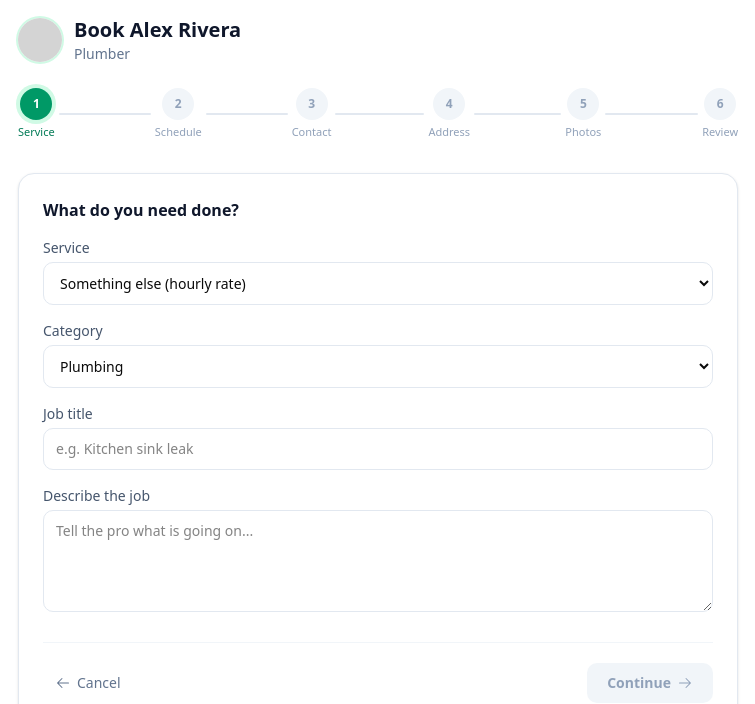
BookingWizardPage › disables slots the pro is already booked for and blocks continuing
Type "Leak" into the field with placeholder "e.g. Kitchen sink leak" at (378, 448), box [43,428,713,470]
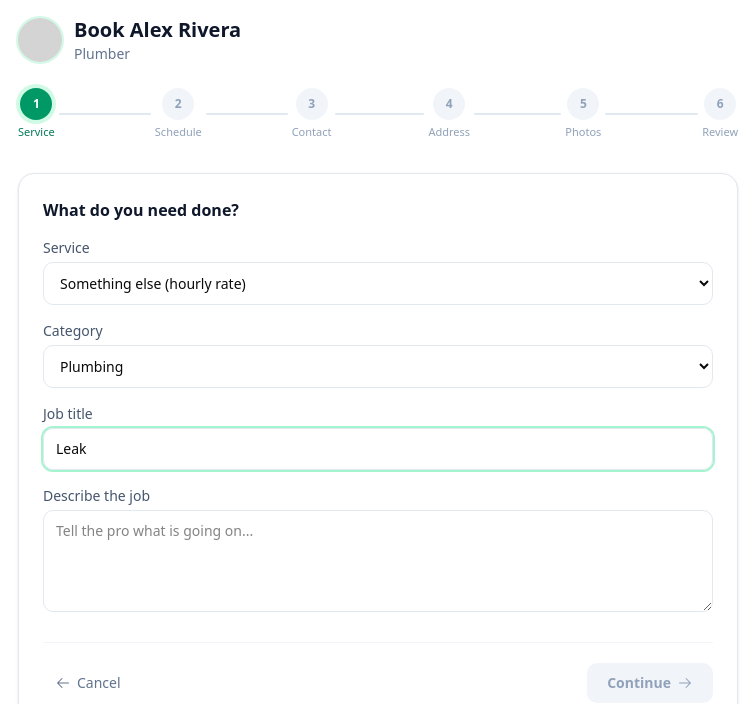
Type "Drips" into the text box with placeholder "Tell the pro what is going on..." at (378, 560), box [43,510,713,612]
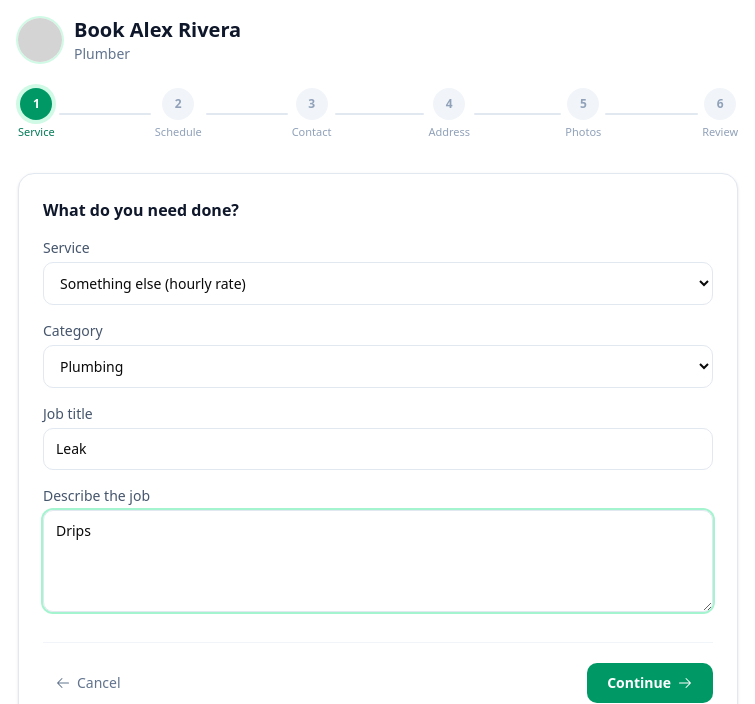
Click the button "Continue" at (650, 682), box [587,662,713,702]
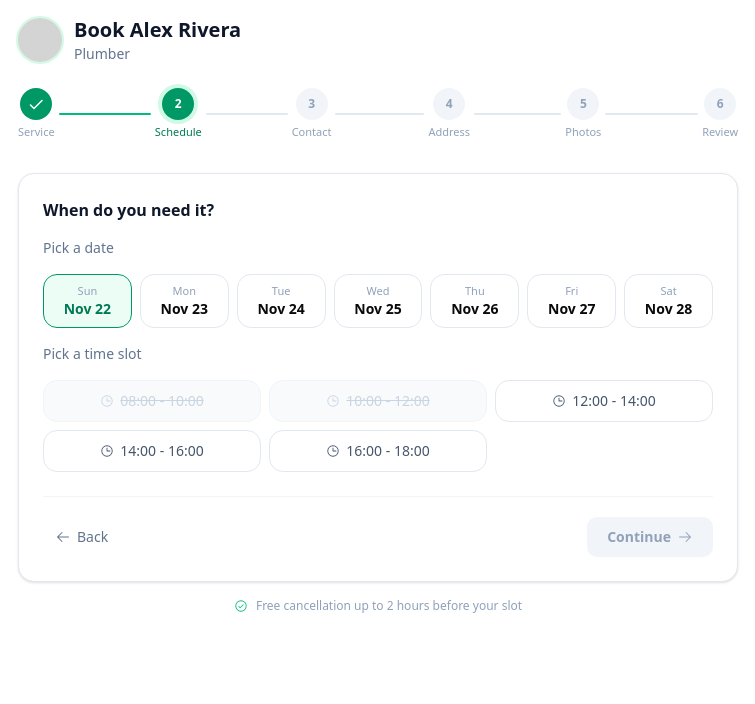
Now the button "08:00 - 10:00" is disabled, box [43,380,261,422]
Now the button "10:00 - 12:00" is disabled, box [269,380,487,422]
Now the button "12:00 - 14:00" is enabled
Click the button "12:00 - 14:00" at (604, 401), box [495,380,713,422]
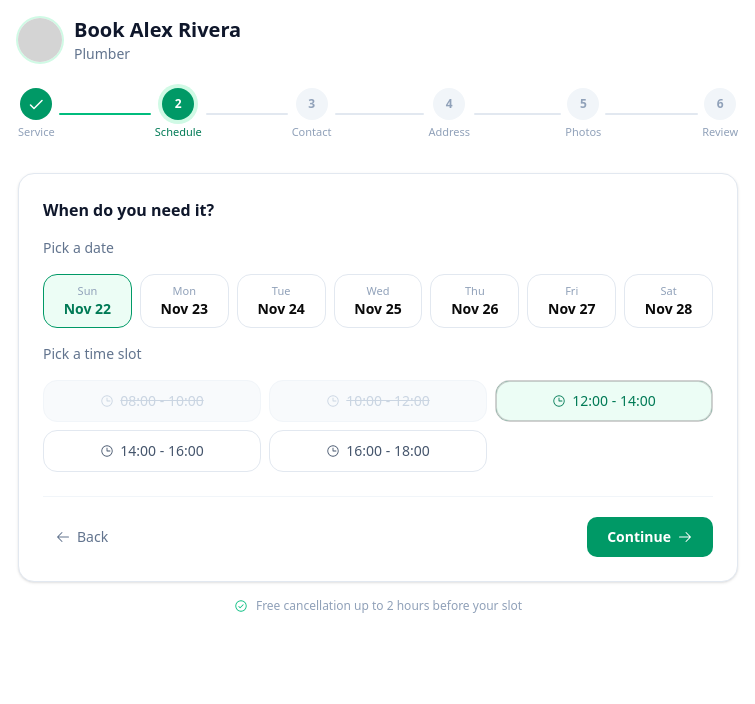
Now the button "Continue" is enabled, box [587,517,713,557]
